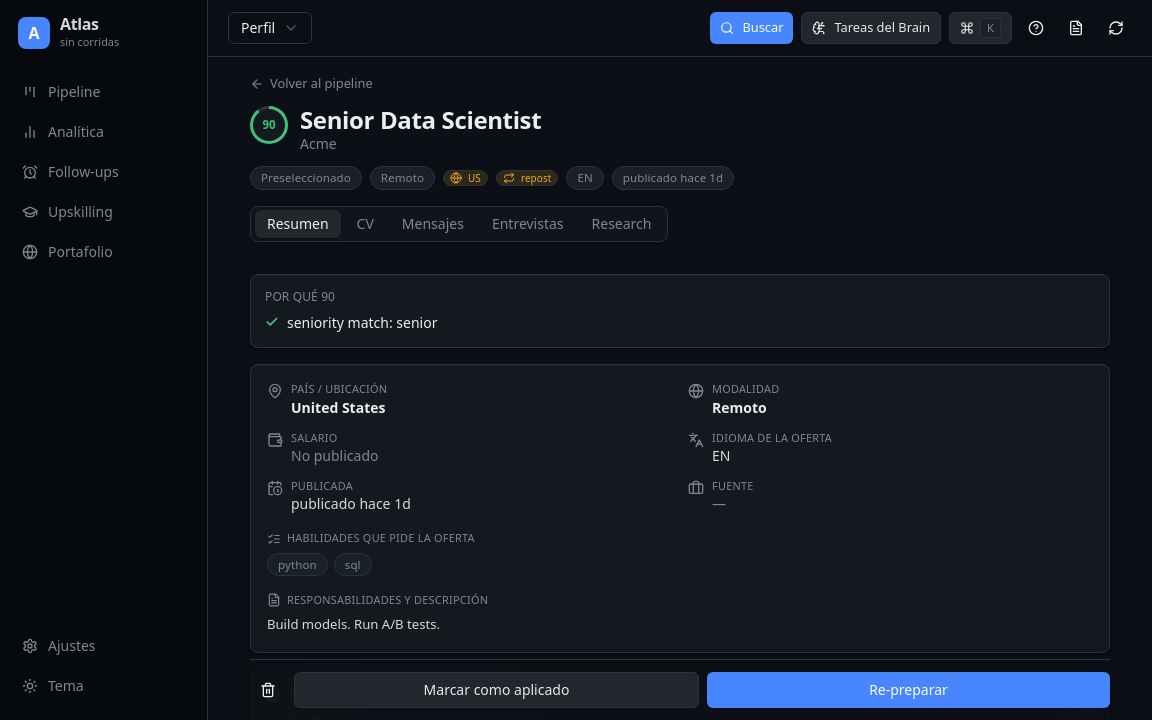
Test: JobDetailPage — página /jobs/:id con tabs › sin review_report el tab CV no muestra la sección de revisión determinista
Expected: the heading "Senior Data Scientist" is shown, [300,103,541,136]
Click the tab "CV" at (365, 224), box [345,210,386,238]
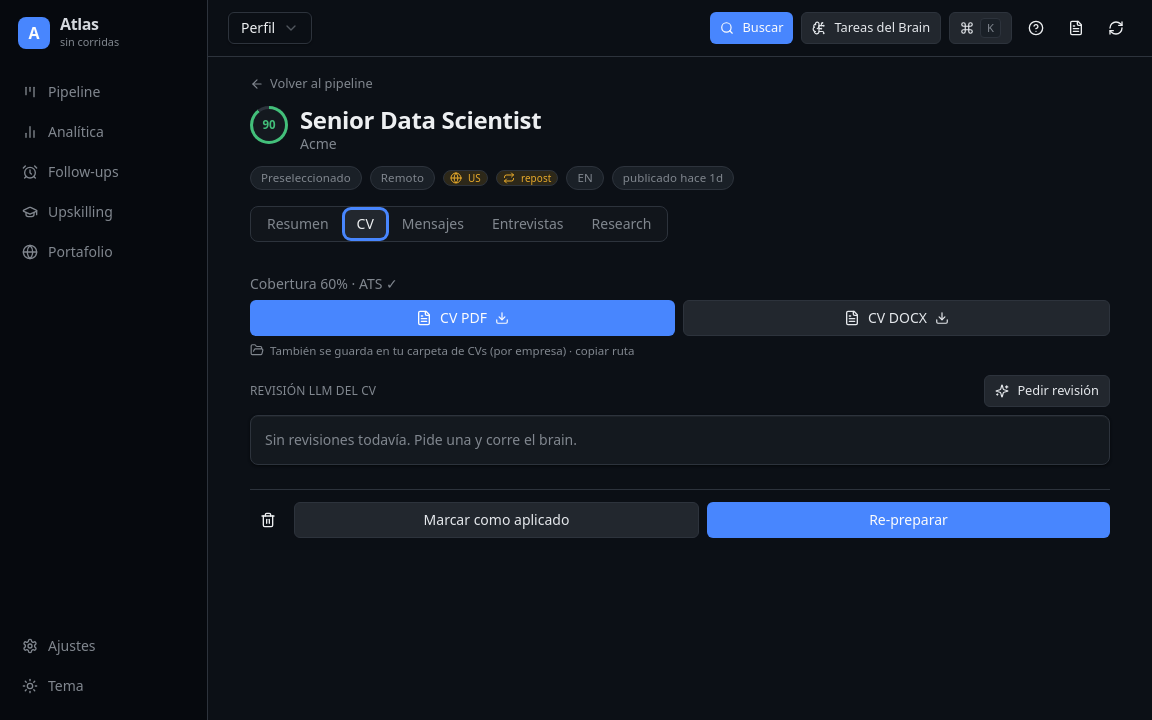
Now the link "CV PDF" is shown, box [250,300,675,336]
